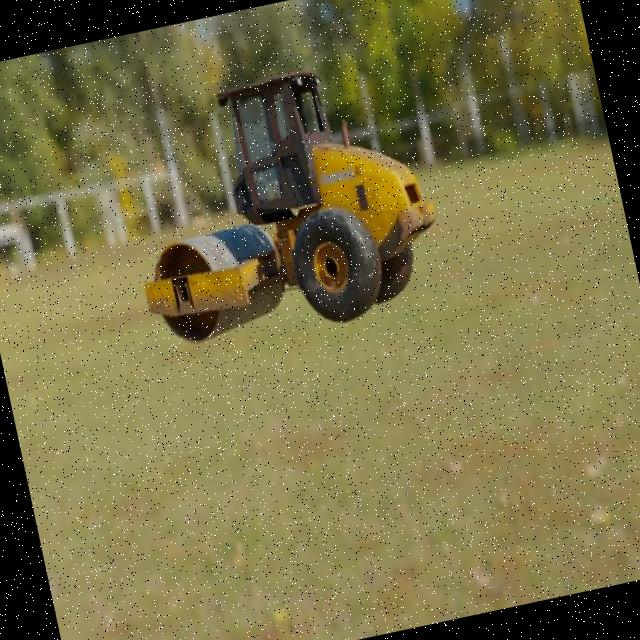Roller: (106, 48, 453, 362)
